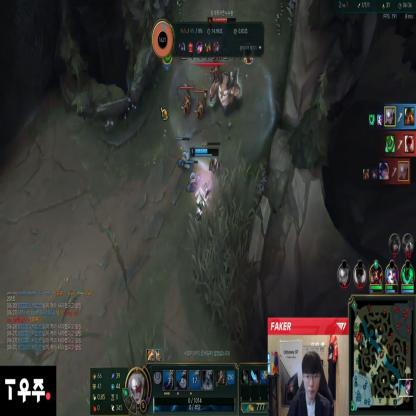streamer: (286, 351, 334, 416)
